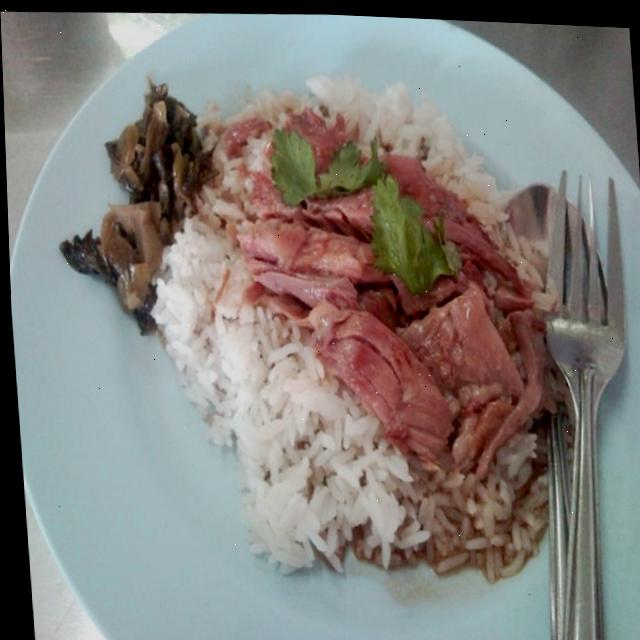猪肉菜式: (47, 25, 640, 586)
